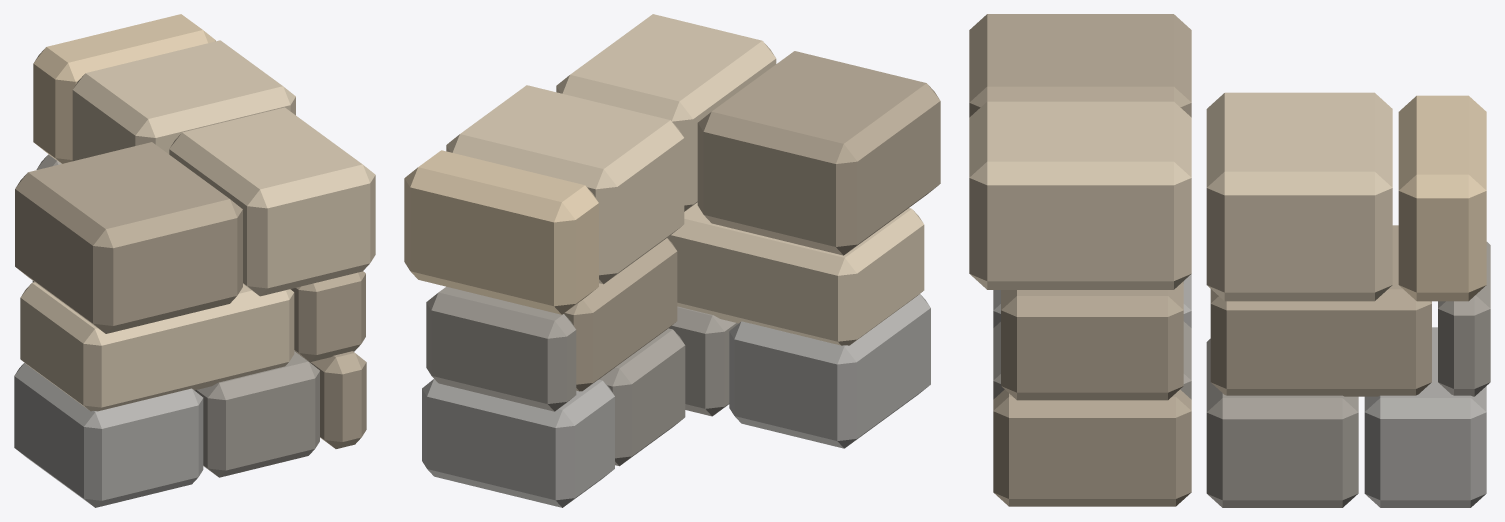
File: plaza_edge_corner.glb
3 renders of one model, left to right at view 1: azimuth 30°, elevation 25°; view 2: azimuth 150°, elevation 25°; view 3: azimuth 270°, elevation 25°, orthographic. The views are drawn at different scales.
Parts seen in each view (by area): view 1: plaza_edge_corner; view 2: plaza_edge_corner; view 3: plaza_edge_corner.
Part boxes in pixels (<box>): plaza_edge_corner: <box>14,14,375,507</box>; plaza_edge_corner: <box>404,14,940,507</box>; plaza_edge_corner: <box>969,14,1490,507</box>.
Size of the model in its own units: 1.05 by 0.9598 by 1.31.
